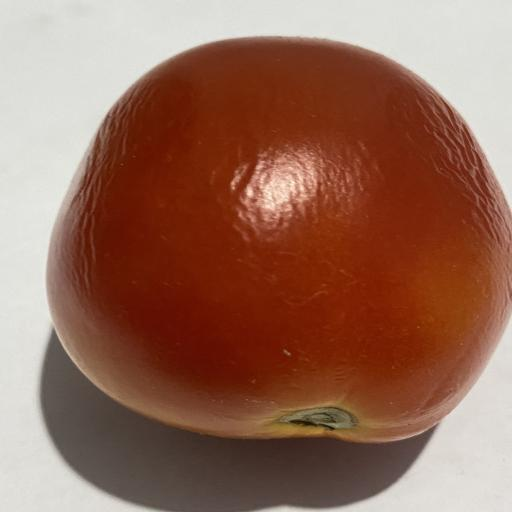spoiled: (47, 37, 512, 442)
